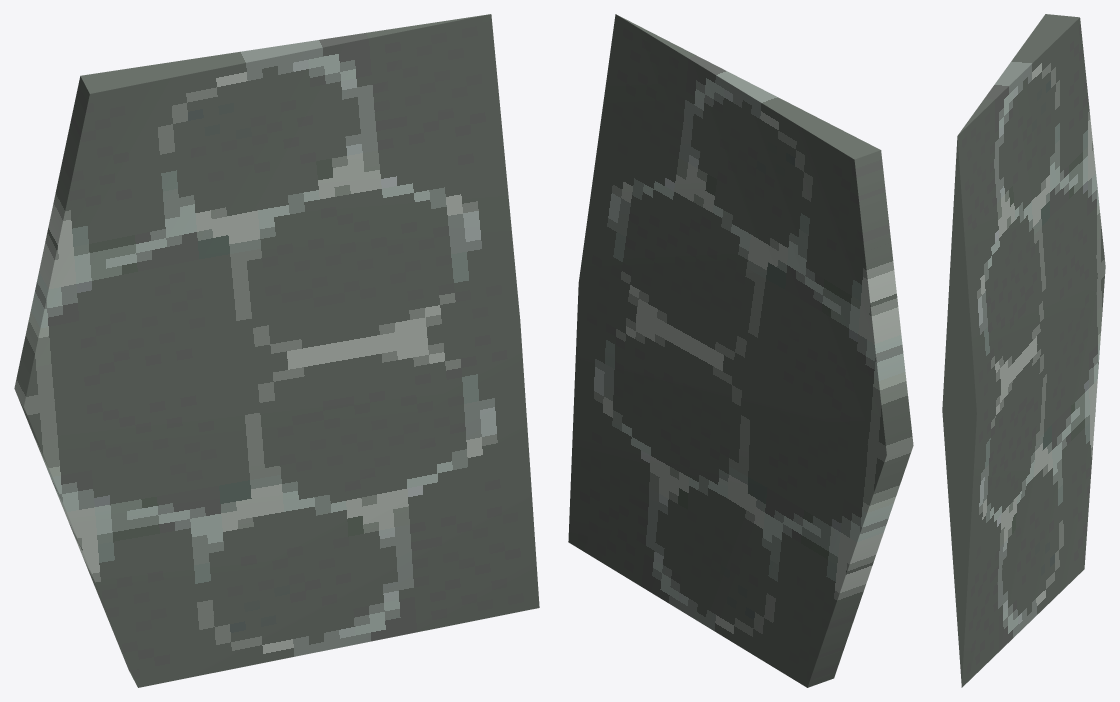
The model's file is BrassKnuckle.fbx.
3 renders of one model, left to right at view 1: azimuth 30°, elevation 25°; view 2: azimuth 150°, elevation 25°; view 3: azimuth 270°, elevation 25°, orthographic. The views are drawn at different scales.
Visible parts, largest first — view 1: BrassKnuckle; view 2: BrassKnuckle; view 3: BrassKnuckle.
Part boxes in pixels (x1,y1,x2,y2): BrassKnuckle: (14, 14, 539, 687); BrassKnuckle: (568, 14, 913, 687); BrassKnuckle: (942, 14, 1105, 687).
Size of the model in its own units: 11.87 by 16.01 by 4.25.
1 material, 1 textured.
